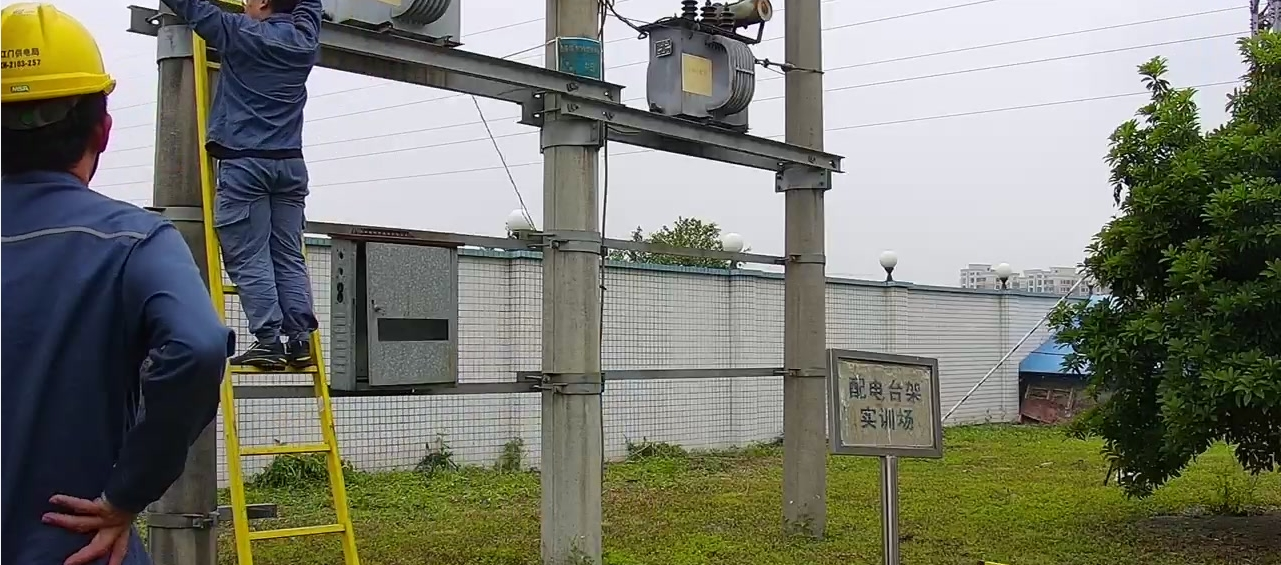安全帽、安全绳均未佩戴的工作人员: (157, 0, 325, 370)
